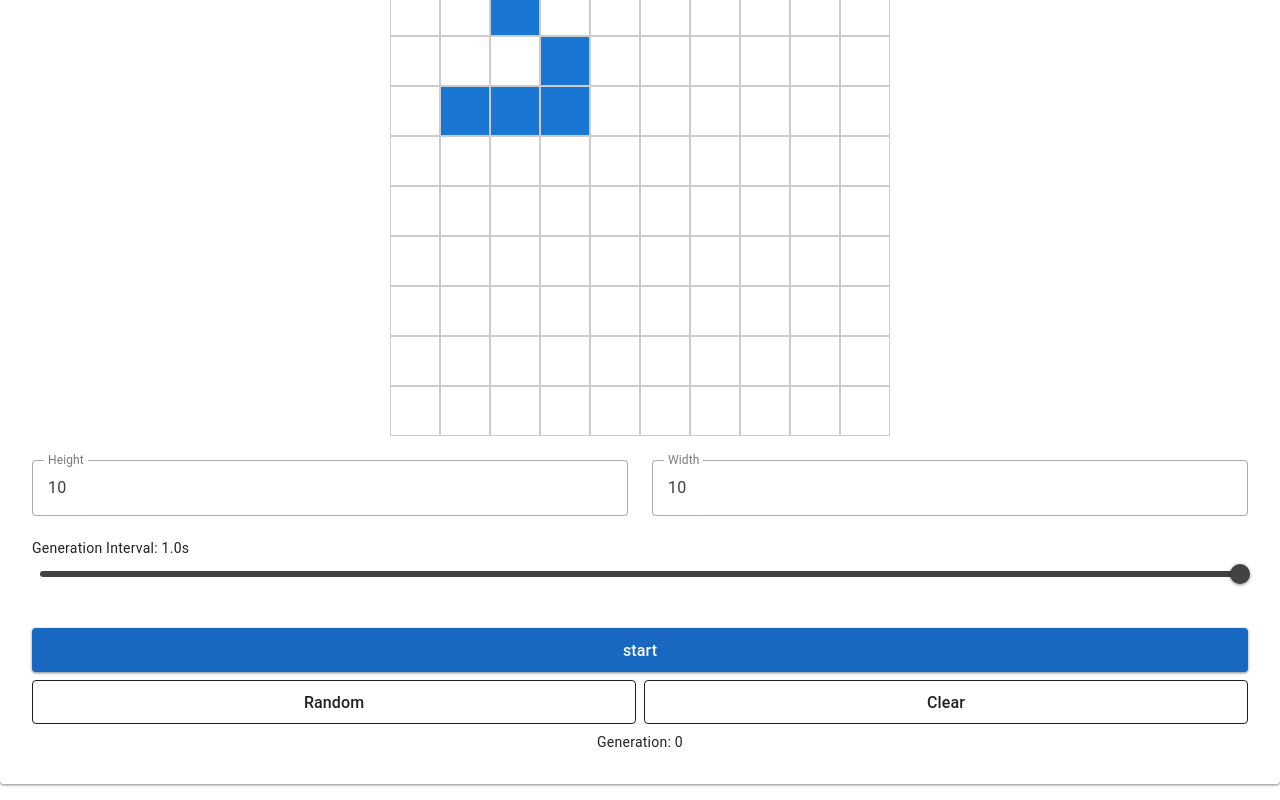
Scenario: LifeGame.vue › clears the grid and resets the generation counter
(page scrolled)
Click the button "start".
click(640, 650)  # box [32,628,1248,672]
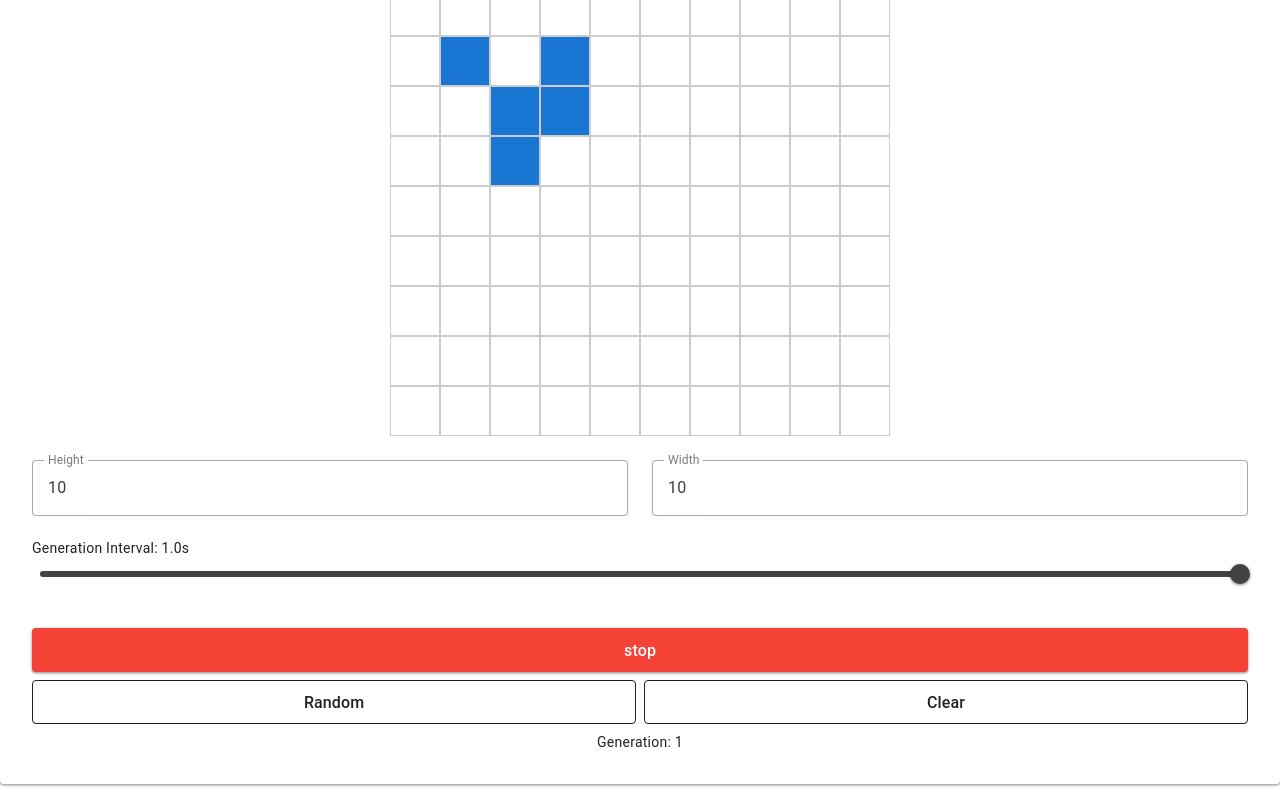
Click the button "Clear".
click(946, 702)  # box [644,680,1248,724]
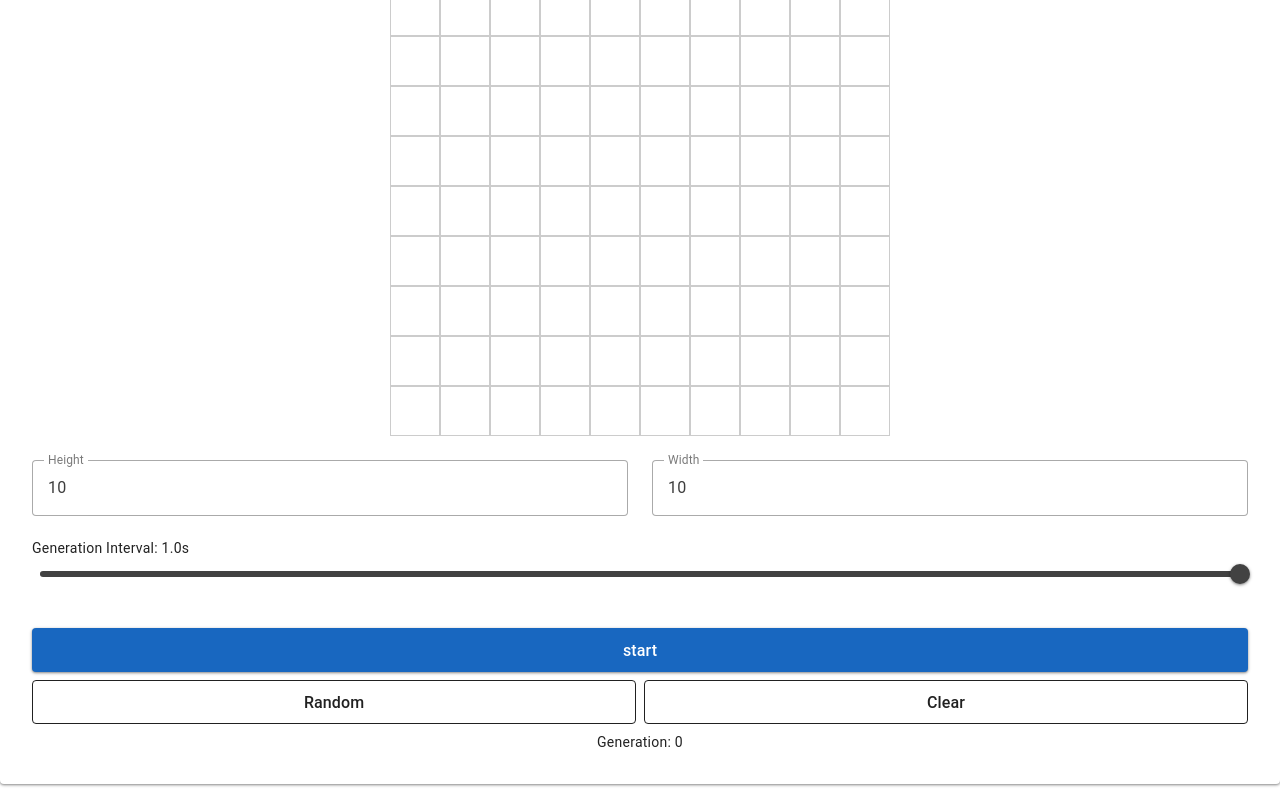
Now the text "Generation: 0" is shown, box [597,734,683,750]
